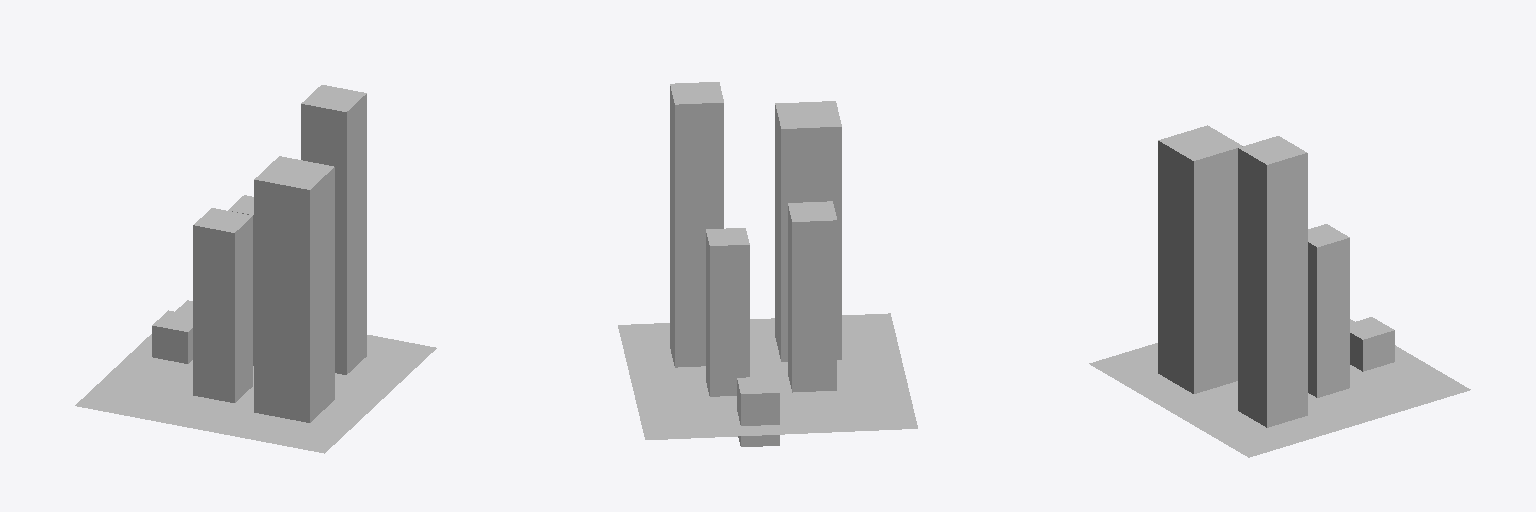
File: com.spacejaguaractionrpg.town.obj
3 views of the same model, side by side, from view 1: azimuth 30°, elevation 25°; view 2: azimuth 150°, elevation 25°; view 3: azimuth 270°, elevation 25° (orthographic).
Visible parts, largest first — view 1: Cube; view 2: Cube; view 3: Cube.
Boxes of the visible parts, <box> form: Cube: <box>75,85,436,453</box>; Cube: <box>618,82,917,446</box>; Cube: <box>1089,125,1470,457</box>.
Size of the model in its own units: 0.7391 by 0.6047 by 0.7391.